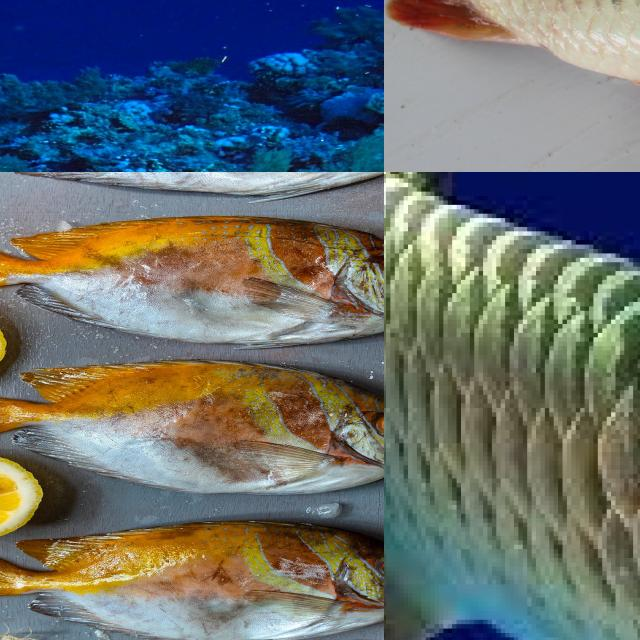fish: (384, 172, 640, 640), (0, 0, 384, 172), (384, 0, 640, 127), (0, 316, 192, 421)
